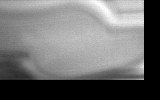cell: (14, 26, 41, 52)
